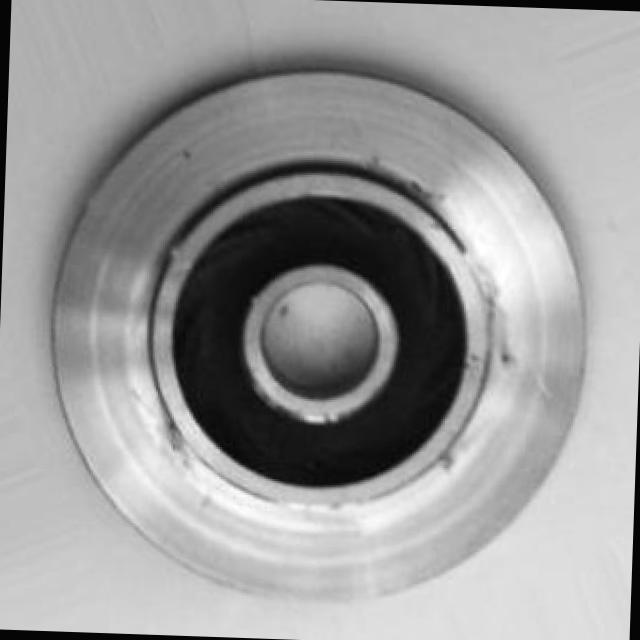Defect: (402, 166, 441, 210)
